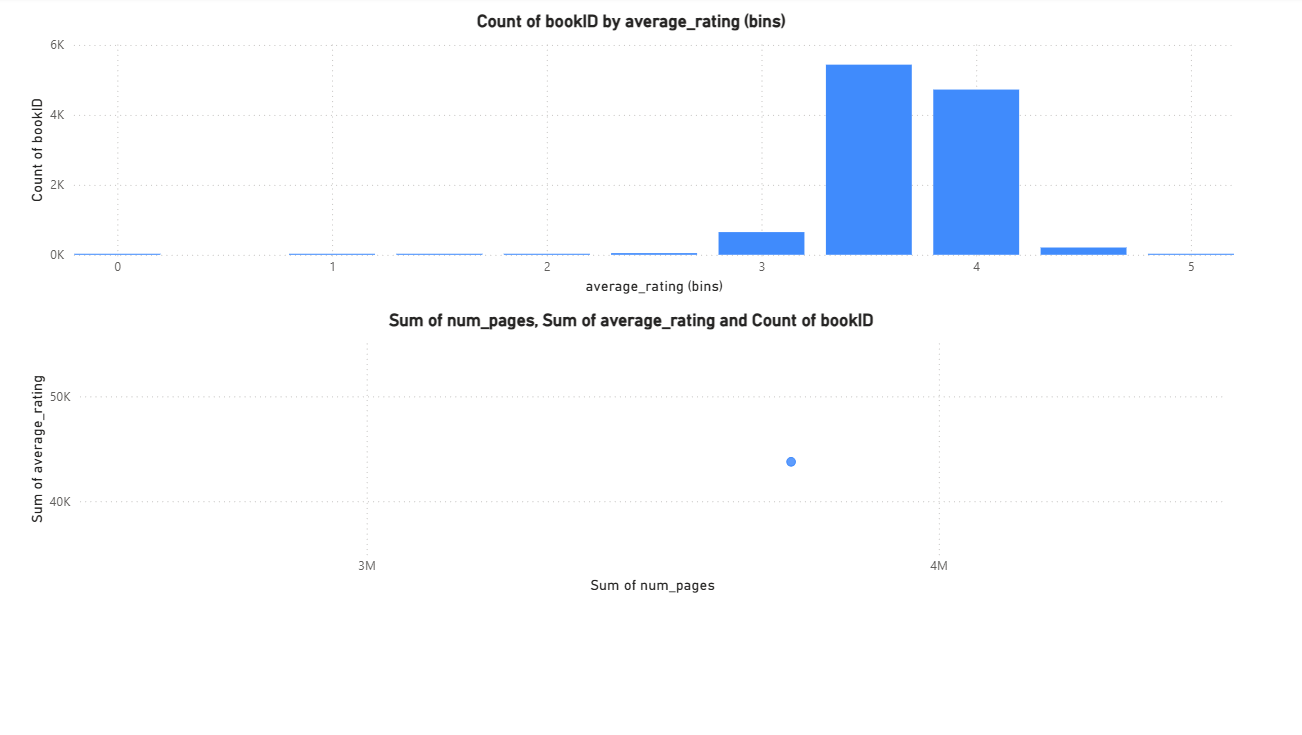

The dashboard page shown, as its layout file describes it:
{"tool":"powerbi","page":{"name":"Ratings Deep Dive","canvas":[1280,720],"ordinal":1},"visuals":[{"type":"clusteredColumnChart","fields":{"Y":["CountNonNull(Books.bookID)"],"Category":["Books.average_rating (bins)"]},"box":[32.1,13.6,1182.7,280.1],"z":0},{"type":"scatterChart","fields":{"X":["Sum(Books.num_pages)"],"Y":["Sum(Books.average_rating)"]},"box":[32,304,1183,280],"z":1}]}

Visuals, with their boxes in screenshot pixels (x1, y1, x2, y2), scaled from the page's 1280x720 canvas onto the 1302x735 screenshot:
clusteredColumnChart - CountNonNull(Books.bookID) x Books.average_rating (bins): Rect(33, 14, 1236, 300)
scatterChart - Sum(Books.num_pages) x Sum(Books.average_rating): Rect(33, 310, 1236, 596)
